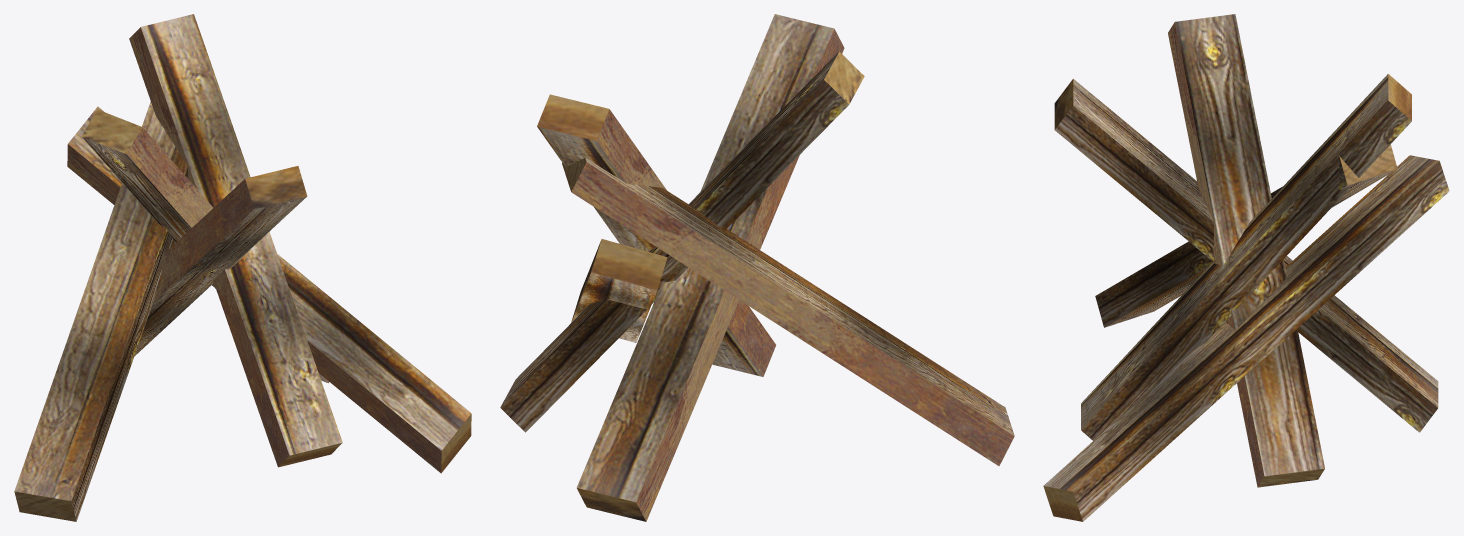
File: camp_fire_base.fbx
3 views of the same model, side by side, from view 1: azimuth 30°, elevation 25°; view 2: azimuth 150°, elevation 25°; view 3: azimuth 270°, elevation 25° (orthographic). The views are drawn at different scales.
Visible parts, largest first — view 1: camp_fire_base; view 2: camp_fire_base; view 3: camp_fire_base.
Part boxes in pixels (x1,y1,x2,y2): camp_fire_base: [14, 14, 471, 521]; camp_fire_base: [500, 14, 1014, 521]; camp_fire_base: [1043, 14, 1449, 521].
Size of the model in its own units: 0.00939 by 0.00761 by 0.0075.
